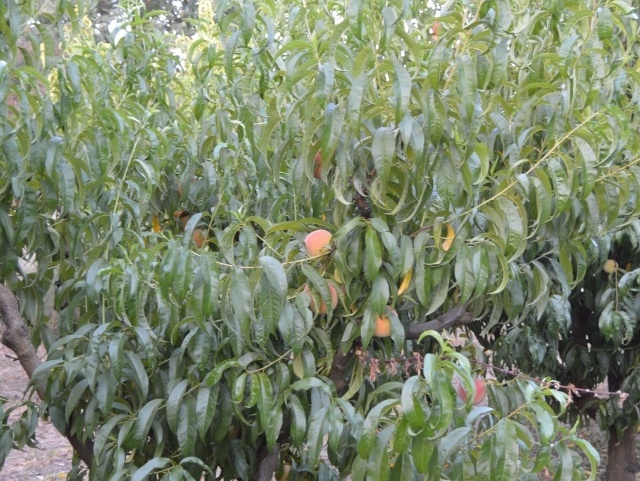peach: (300, 279, 341, 316), (367, 302, 402, 342), (301, 224, 339, 257), (456, 370, 489, 406)
